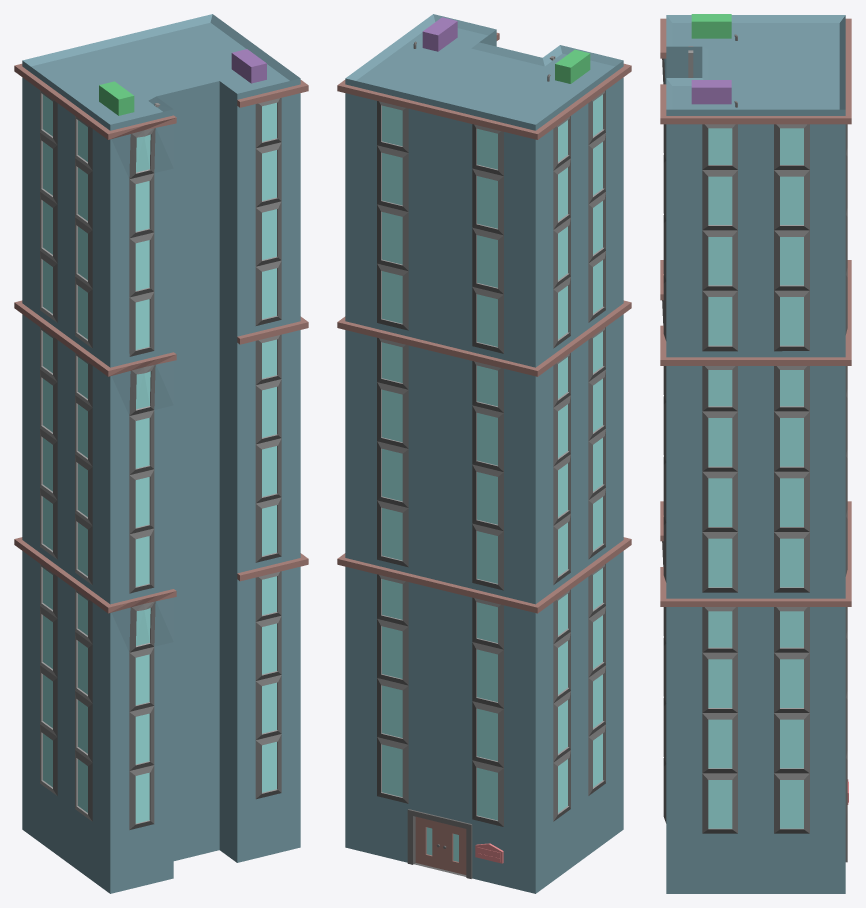
Rendered from skyscraper.fbx.
3 renders of one model, left to right at view 1: azimuth 30°, elevation 25°; view 2: azimuth 150°, elevation 25°; view 3: azimuth 270°, elevation 25°, orthographic.
Parts seen in each view (by area): view 1: pCube10, pCube5, pCube4; view 2: pCube10, pCube4, pCube5; view 3: pCube10, pCube5, pCube4.
Boxes of the visible parts, x1,y1,x2,y2 form: pCube10: (14,14,308,893); pCube5: (99,81,134,115); pCube4: (231,49,266,83); pCube10: (337,14,631,893); pCube4: (422,17,457,51); pCube5: (555,49,590,83); pCube10: (660,15,851,893); pCube5: (691,14,731,38); pCube4: (691,80,731,104).
Bounding box in the file's own units: 3.96 × 14.72 × 3.21.
